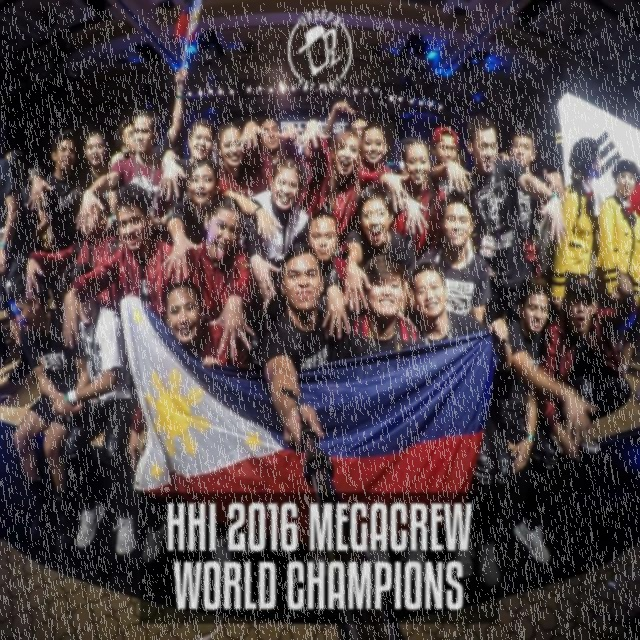pessoa: (126, 277, 254, 578), (407, 258, 514, 589), (488, 275, 598, 564), (427, 113, 568, 328), (47, 260, 137, 556), (6, 272, 92, 558), (60, 181, 185, 351), (536, 260, 637, 465), (262, 240, 344, 453), (173, 194, 257, 366), (241, 156, 312, 356), (24, 193, 126, 323), (108, 65, 190, 217), (24, 126, 91, 308), (74, 108, 169, 232), (414, 188, 494, 326), (497, 126, 567, 280), (342, 184, 416, 324), (292, 116, 366, 249), (336, 254, 426, 363), (550, 136, 604, 314), (592, 158, 640, 344), (0, 156, 35, 387), (390, 140, 448, 262), (216, 120, 270, 241), (306, 208, 352, 342), (389, 137, 437, 260), (40, 128, 86, 254), (355, 122, 413, 215), (236, 115, 302, 195), (4, 148, 46, 254), (174, 118, 218, 206), (428, 125, 474, 197), (347, 108, 371, 146), (298, 126, 320, 156), (451, 146, 468, 172)
